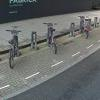Bicycle: (4, 22, 22, 75)
